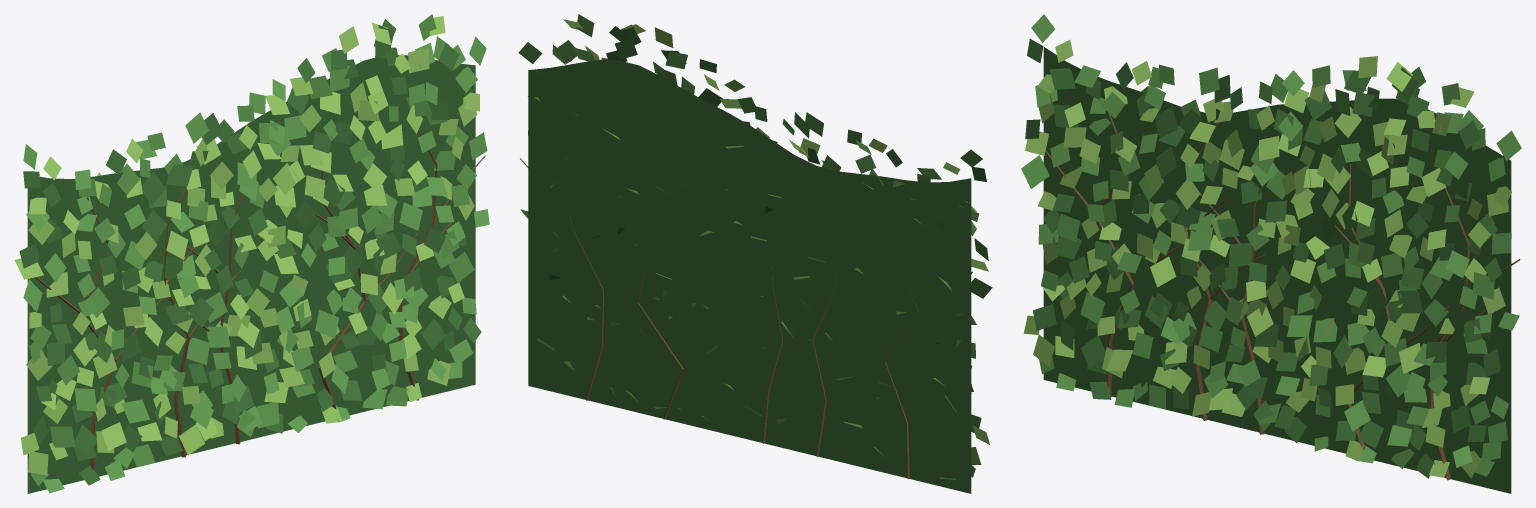
File: SC_Nat_Ivy_Wall_3m.gltf
3 renders of one model, left to right at view 1: azimuth 30°, elevation 25°; view 2: azimuth 150°, elevation 25°; view 3: azimuth 330°, elevation 25°, orthographic. The views are drawn at different scales.
Visible parts, largest first — view 1: SC_Nat_Ivy_Wall_3m; view 2: SC_Nat_Ivy_Wall_3m; view 3: SC_Nat_Ivy_Wall_3m.
Boxes of the visible parts, x1=… form: SC_Nat_Ivy_Wall_3m: x1=14, y1=14, x2=489, y2=493; SC_Nat_Ivy_Wall_3m: x1=518, y1=14, x2=992, y2=493; SC_Nat_Ivy_Wall_3m: x1=1021, y1=14, x2=1521, y2=493.
Size of the model in its own units: 3.16 by 2.5 by 0.1736.
Materials: 1 (1 with a texture image).
